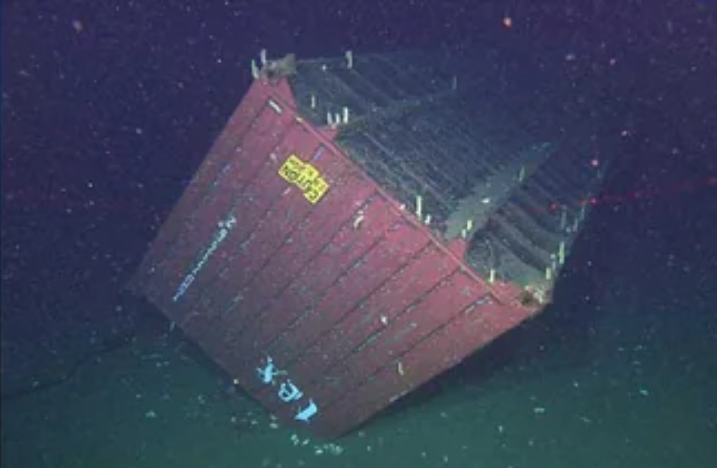Container: (123, 45, 623, 442)
